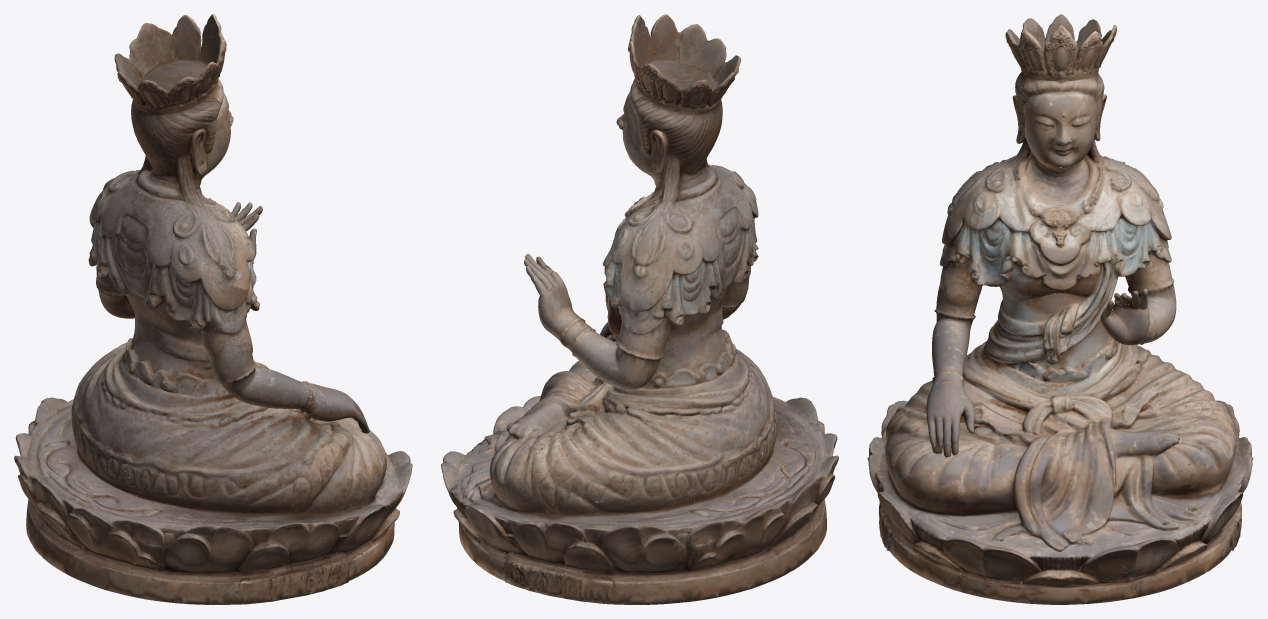
File: f5-akashagarbha.glb
3 views of the same model, side by side, from view 1: azimuth 30°, elevation 25°; view 2: azimuth 150°, elevation 25°; view 3: azimuth 270°, elevation 25° (orthographic). The views are drawn at different scales.
Parts seen in each view (by area): view 1: tripo_node_7091b88e-ad0f-422a-8790-0e0e408f0d24; view 2: tripo_node_7091b88e-ad0f-422a-8790-0e0e408f0d24; view 3: tripo_node_7091b88e-ad0f-422a-8790-0e0e408f0d24.
Boxes of the visible parts, bbox=[...] form: tripo_node_7091b88e-ad0f-422a-8790-0e0e408f0d24: bbox=[14, 14, 412, 604]; tripo_node_7091b88e-ad0f-422a-8790-0e0e408f0d24: bbox=[441, 14, 838, 604]; tripo_node_7091b88e-ad0f-422a-8790-0e0e408f0d24: bbox=[867, 14, 1253, 604].
Size of the model in its own units: 0.6837 by 1 by 0.6919.
1 material, 1 textured.
